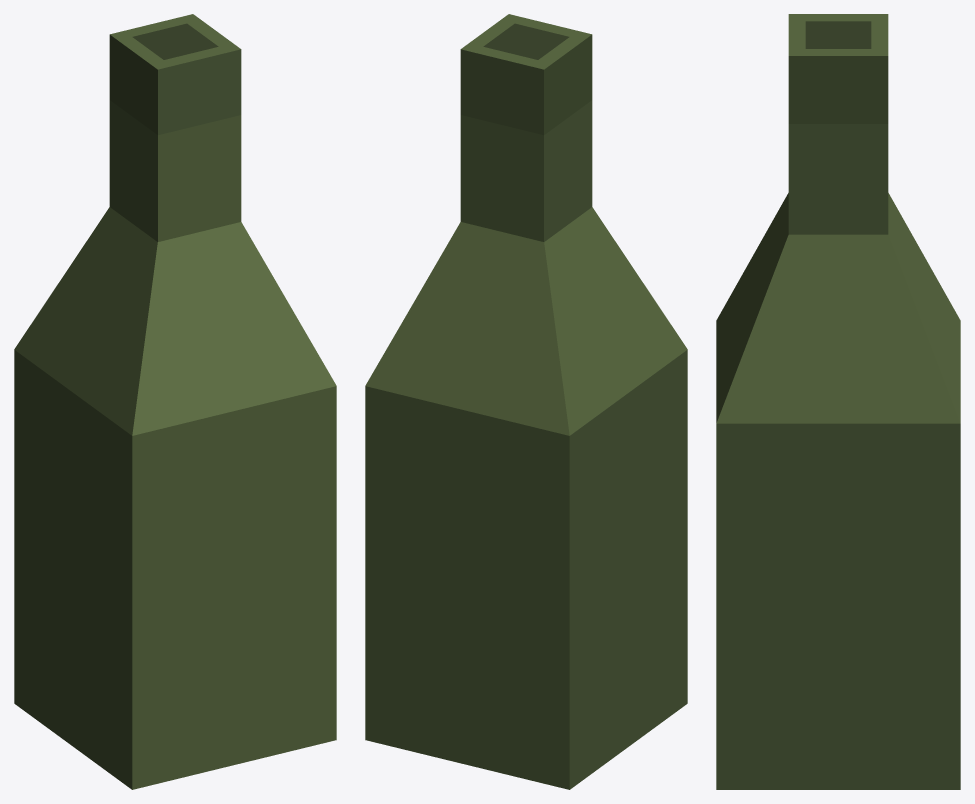
File: SM_Prop_Bottle_02.glb
3 views of the same model, side by side, from view 1: azimuth 30°, elevation 25°; view 2: azimuth 150°, elevation 25°; view 3: azimuth 270°, elevation 25° (orthographic). The views are drawn at different scales.
Parts seen in each view (by area): view 1: SM_Prop_Bottle_02; view 2: SM_Prop_Bottle_02; view 3: SM_Prop_Bottle_02.
Part boxes in pixels (x1,y1,x2,y2): SM_Prop_Bottle_02: (14,14,336,789); SM_Prop_Bottle_02: (365,14,687,789); SM_Prop_Bottle_02: (716,14,960,789).
Bounding box in the file's own units: 0.00315 × 0.01 × 0.00315.
1 material, 1 textured.
